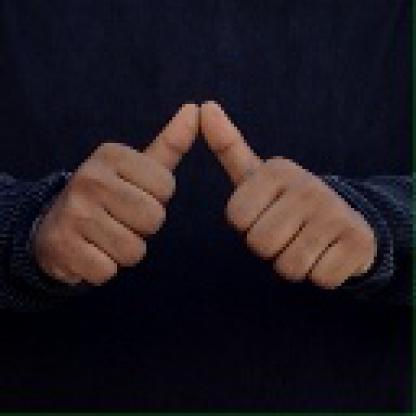A: (38, 92, 386, 311)
